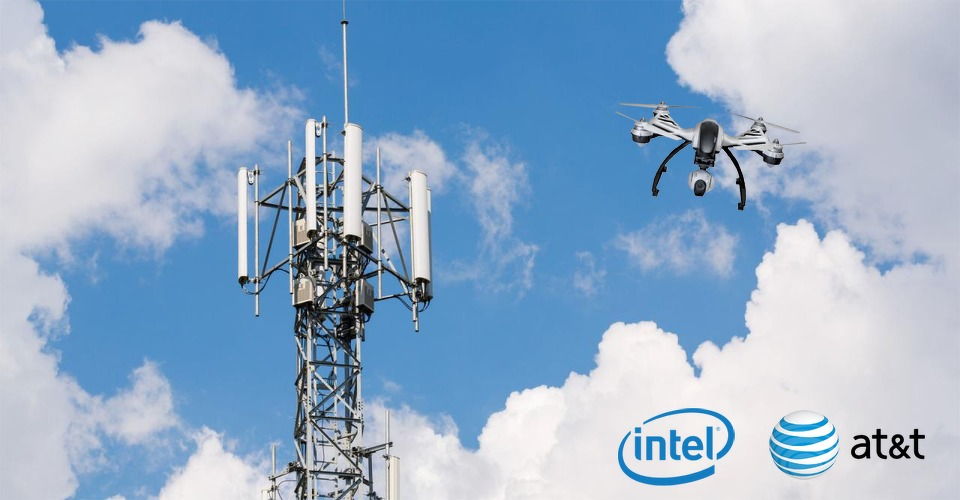drone: (614, 101, 808, 214)
